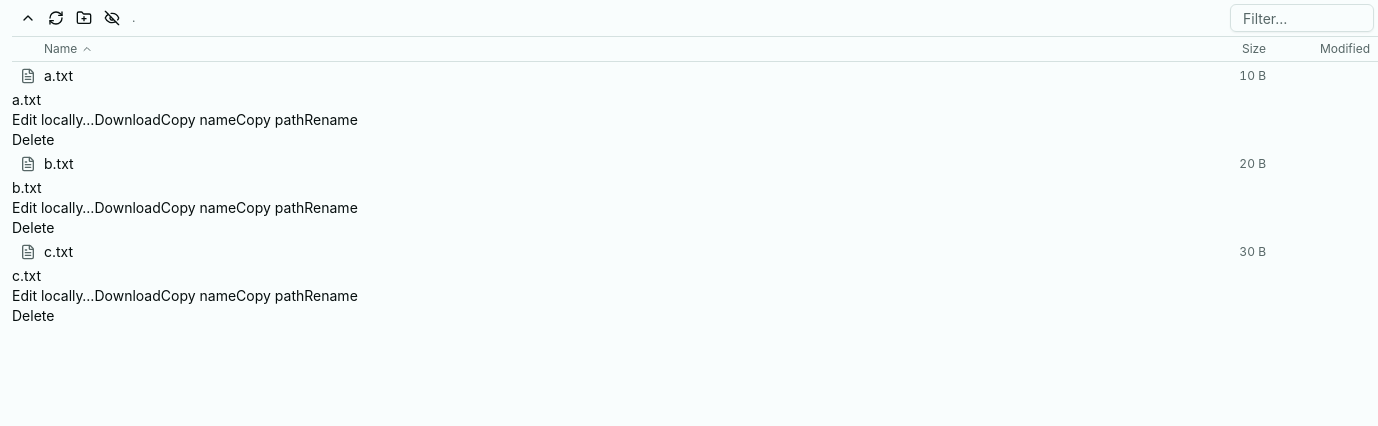
Scenario: hides dotfiles until the toggle is on
The width and height of the screenshot is (1378, 426).
Check: the text "a.txt" is shown, box top-left (44, 67), bottom-right (73, 84)
Check: the text ".env" is not shown
Click the button named "Show hidden files": coordinates (112, 18) top-left (100, 6), bottom-right (124, 30)
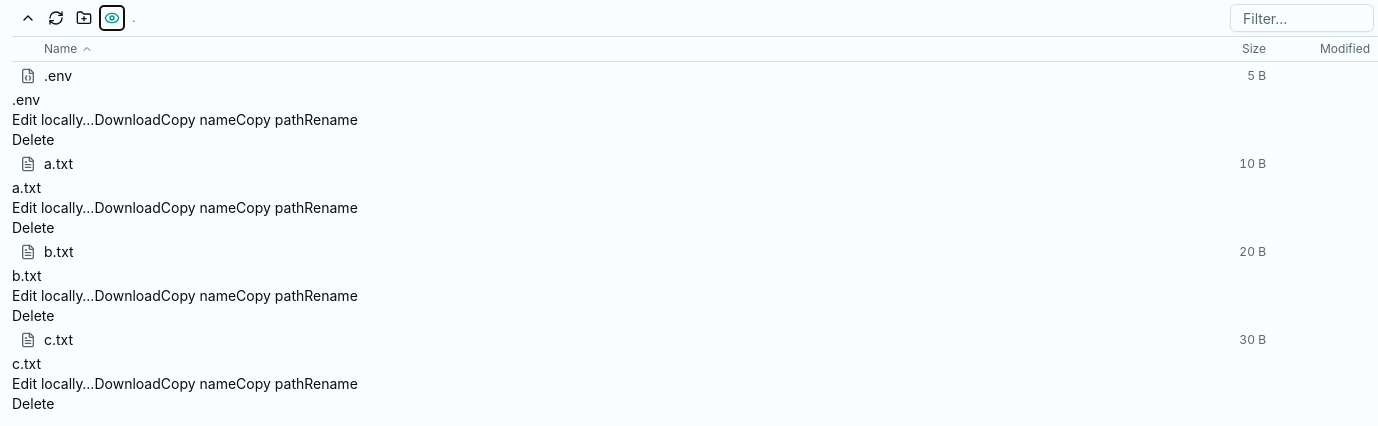
Check: the text ".env" is shown, box top-left (44, 67), bottom-right (72, 84)
